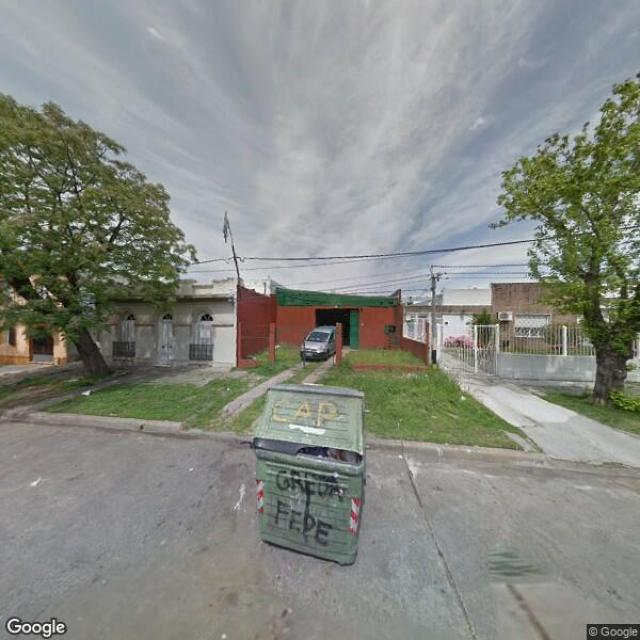garbage container: (246, 379, 376, 577)
